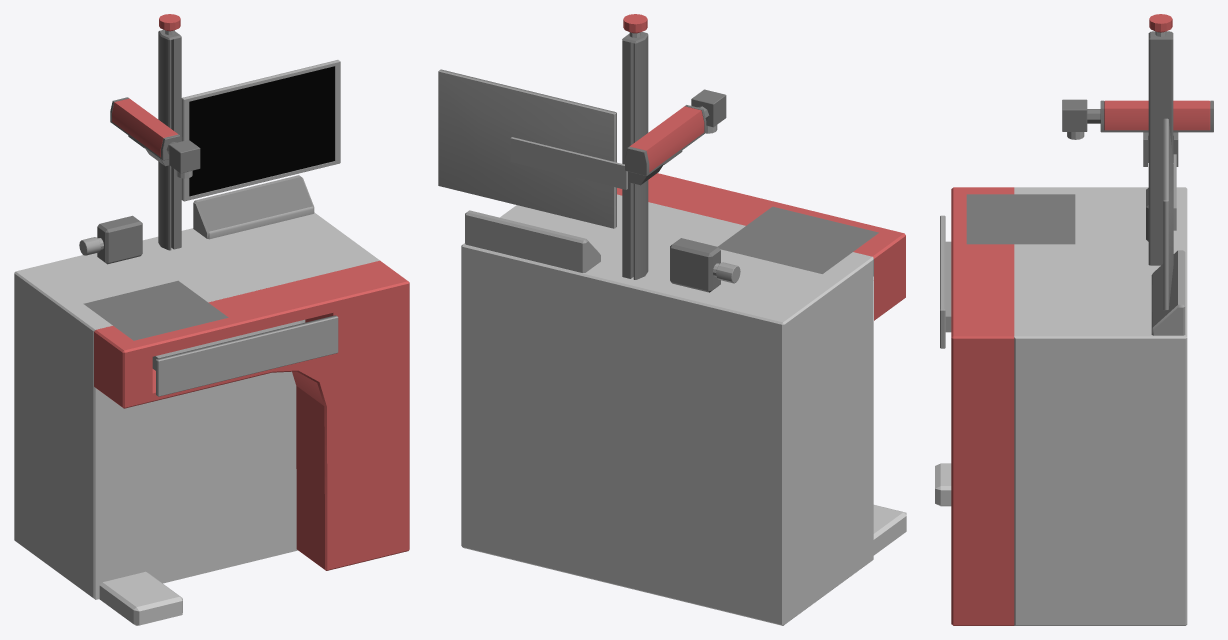
3 views of the same model, side by side, from view 1: azimuth 30°, elevation 25°; view 2: azimuth 150°, elevation 25°; view 3: azimuth 270°, elevation 25° (orthographic). The views are drawn at different scales.
Visible parts, largest first — view 1: pCube2_4, polySurface3_20, ZTQ50W_0, polySurface2_19, Plane001_18, pCube9_6, pCube017_12, pCube15_10, polySurface5_21, pCube14_9, pCube5_5, pCube12_7; view 2: pCube2_4, pCube15_10, polySurface3_20, Plane001_18, pCube9_6, pCube5_5, pCube16_11, polySurface5_21, pCube14_9, pCube017_12, pCube12_7, polySurface6_22; view 3: pCube2_4, polySurface3_20, Plane001_18, pCube9_6, polySurface5_21, pCube15_10, ZTQ50W_0, pCube5_5, pCube12_7, polySurface2_19, pCube017_12, polySurface6_22.
Boxes of the visible parts, left/top/right/bottom form: pCube2_4: left=14, top=212, right=379, bottom=599; polySurface3_20: left=94, top=260, right=409, bottom=570; ZTQ50W_0: left=152, top=66, right=334, bottom=370; polySurface2_19: left=156, top=315, right=338, bottom=396; Plane001_18: left=83, top=280, right=228, bottom=340; pCube9_6: left=158, top=29, right=181, bottom=250; pCube017_12: left=99, top=571, right=182, bottom=625; pCube15_10: left=181, top=60, right=340, bottom=201; polySurface5_21: left=112, top=98, right=177, bottom=157; pCube14_9: left=97, top=215, right=142, bottom=264; pCube5_5: left=193, top=175, right=314, bottom=239; pCube12_7: left=169, top=140, right=200, bottom=173; pCube2_4: left=461, top=194, right=873, bottom=625; pCube15_10: left=438, top=69, right=616, bottom=228; polySurface3_20: left=617, top=173, right=905, bottom=320; Plane001_18: left=718, top=206, right=878, bottom=273; pCube9_6: left=622, top=32, right=648, bottom=279; pCube5_5: left=465, top=210, right=600, bottom=272; pCube16_11: left=510, top=137, right=627, bottom=189; polySurface5_21: left=630, top=106, right=704, bottom=172; pCube14_9: left=670, top=238, right=720, bottom=292; pCube017_12: left=873, top=505, right=906, bottom=555; pCube12_7: left=691, top=89, right=726, bottom=127; polySurface6_22: left=625, top=105, right=706, bottom=175; pCube2_4: left=1014, top=187, right=1187, bottom=625; polySurface3_20: left=951, top=187, right=1014, bottom=625; Plane001_18: left=966, top=194, right=1075, bottom=244; pCube9_6: left=1148, top=31, right=1173, bottom=265; polySurface5_21: left=1104, top=100, right=1210, bottom=130; pCube15_10: left=1163, top=118, right=1173, bottom=310; ZTQ50W_0: left=945, top=241, right=1177, bottom=332; pCube5_5: left=1151, top=250, right=1185, bottom=335; pCube12_7: left=1062, top=99, right=1087, bottom=131; polySurface2_19: left=940, top=215, right=945, bottom=348; pCube017_12: left=935, top=463, right=951, bottom=506; polySurface6_22: left=1100, top=100, right=1213, bottom=132.
Bounding box in the file's own units: 1.58 × 2.38 × 1.12.
